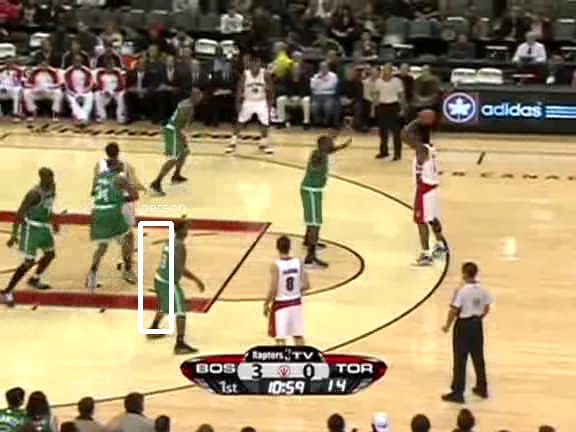person: (154, 237, 188, 318), (153, 237, 187, 318), (155, 237, 189, 318), (154, 236, 188, 317), (154, 238, 188, 319)
target_negative: (193, 191, 455, 416), (243, 10, 433, 283), (1, 103, 405, 154), (446, 217, 542, 362), (534, 339, 552, 422), (337, 249, 398, 270)
